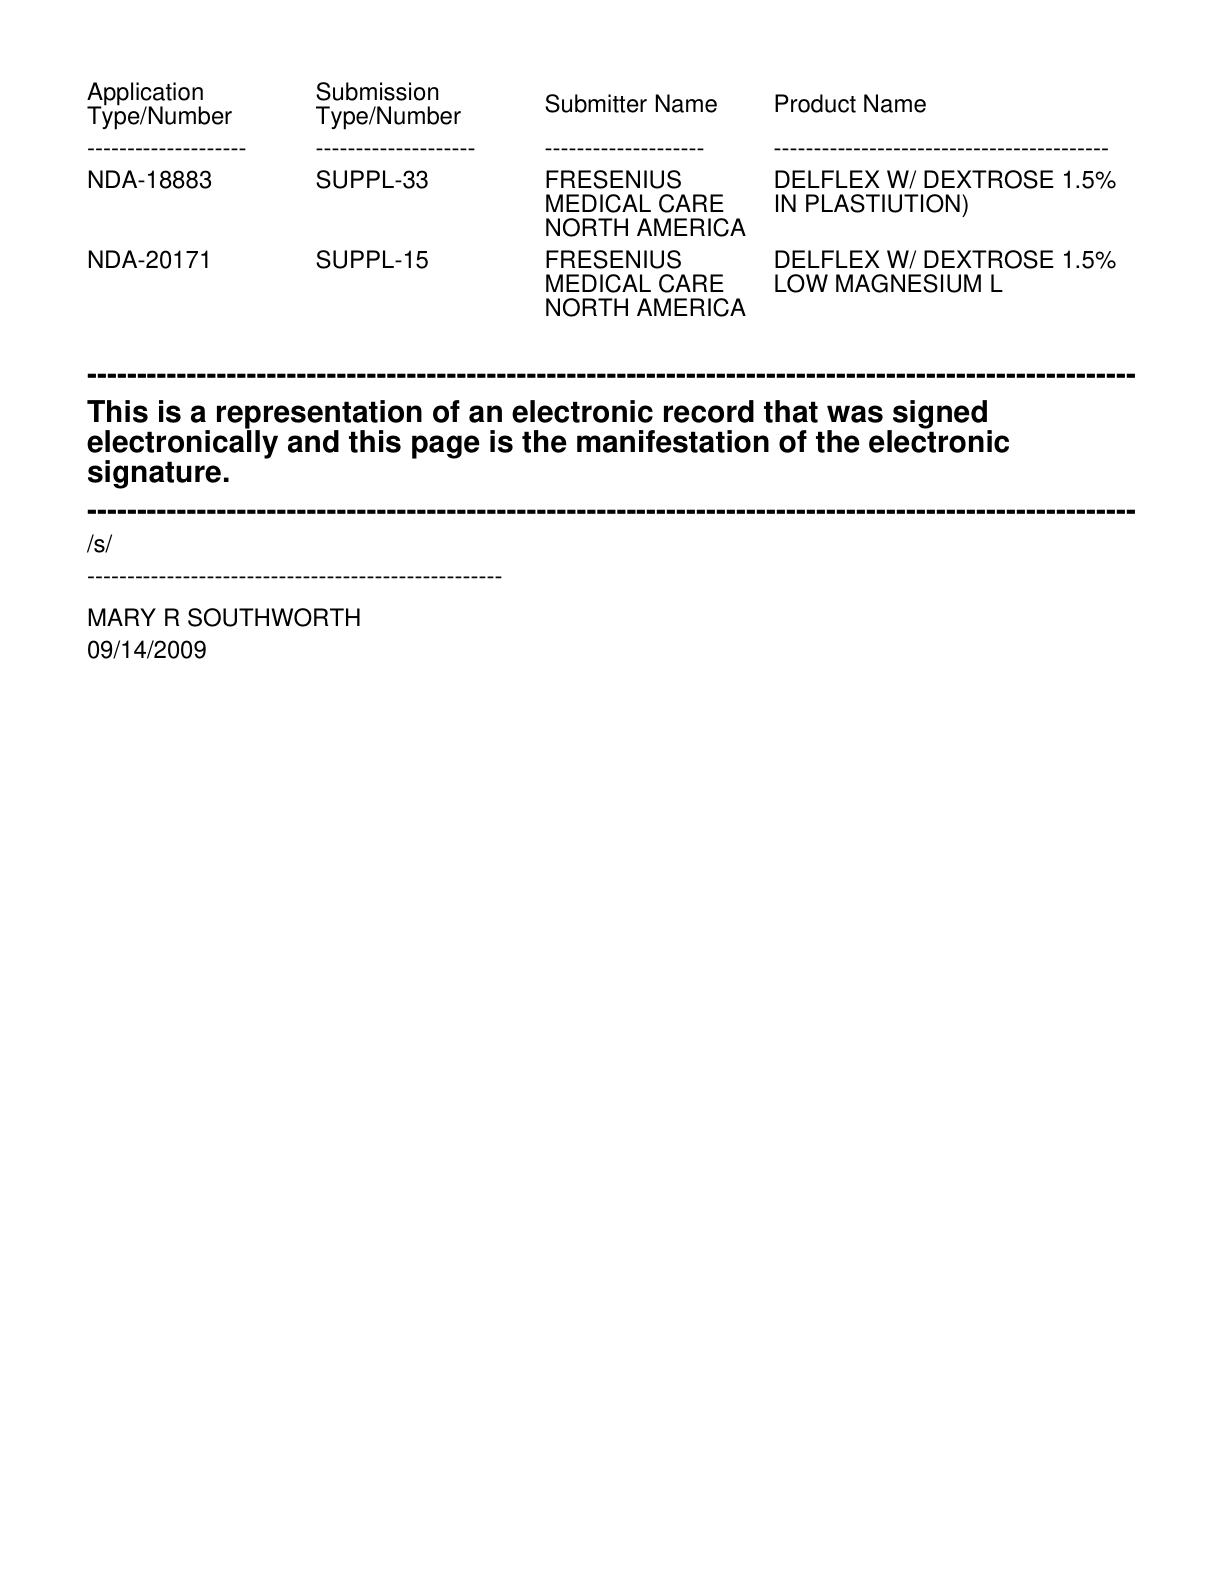nolines: (77, 69, 1120, 323)
